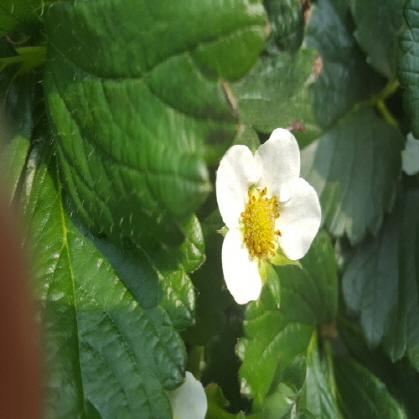Blossom Blight: (237, 182, 283, 263)
